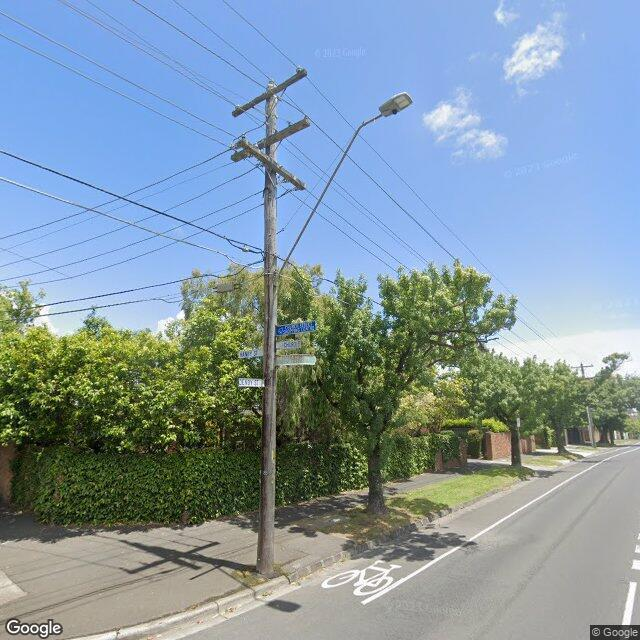HV-transmission: (231, 65, 308, 117), (570, 362, 594, 368)
crossarm: (231, 138, 308, 198), (230, 115, 312, 163), (232, 71, 307, 117), (573, 365, 591, 369)
streetlight: (274, 92, 414, 286)
timber-pole: (256, 86, 277, 575), (580, 366, 596, 448)
